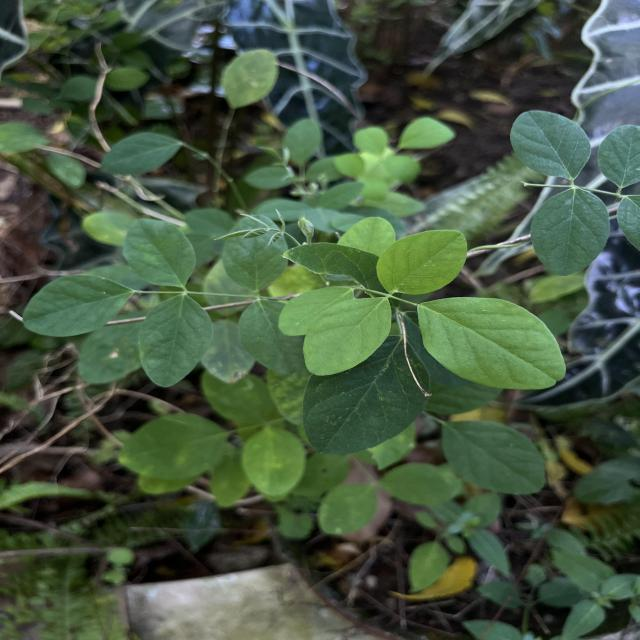Clitoria ternatea: (416, 296, 566, 391), (529, 188, 611, 277), (302, 296, 392, 376), (375, 229, 468, 296), (508, 109, 592, 181)
